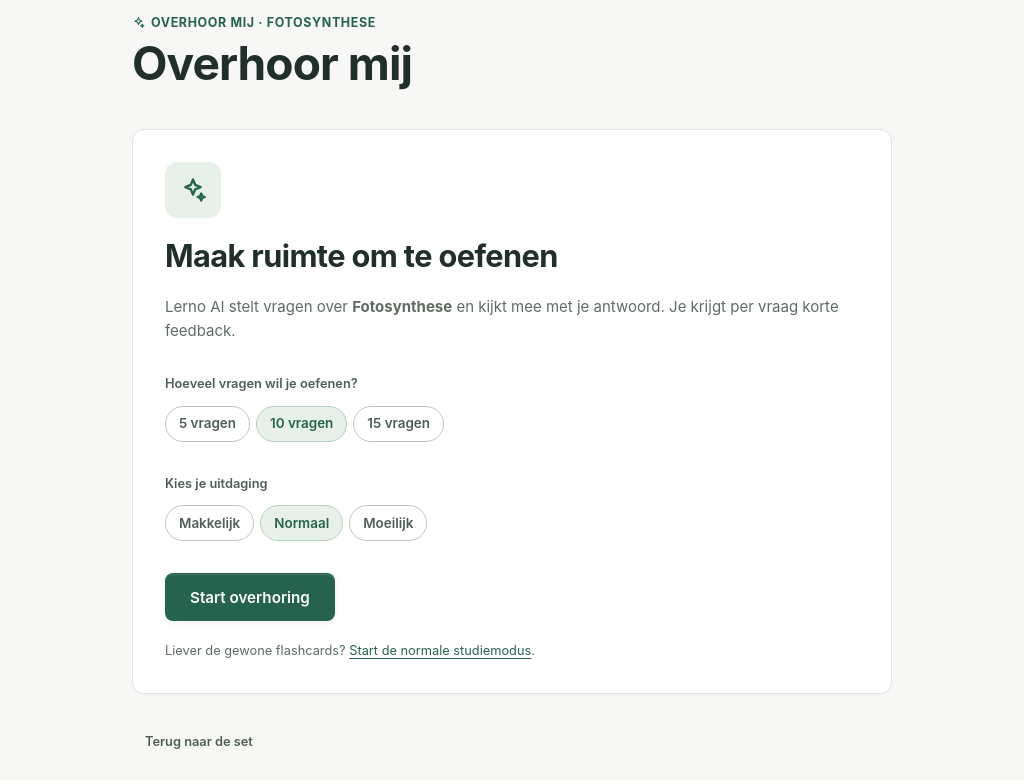
Scenario: AiStudyPage (Overhoor mij) › starts a session and asks the first question
Expected: the heading "Overhoor mij" is shown, [132,36,412,92]
Click the button "Start overhoring". click: (250, 598)
box: [165,574,335,622]
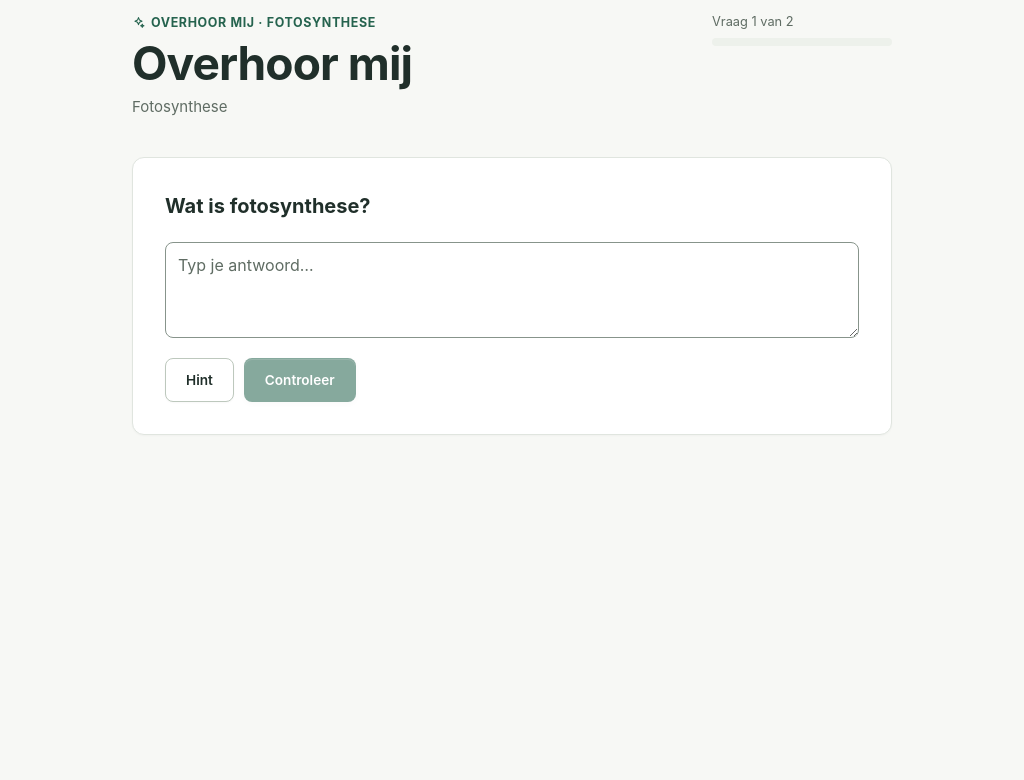
Expected: the text "Wat is fotosynthese?" is shown, [165,190,371,222]
Expected: the text "Vraag 1 van 2" is shown, [712,14,794,29]
